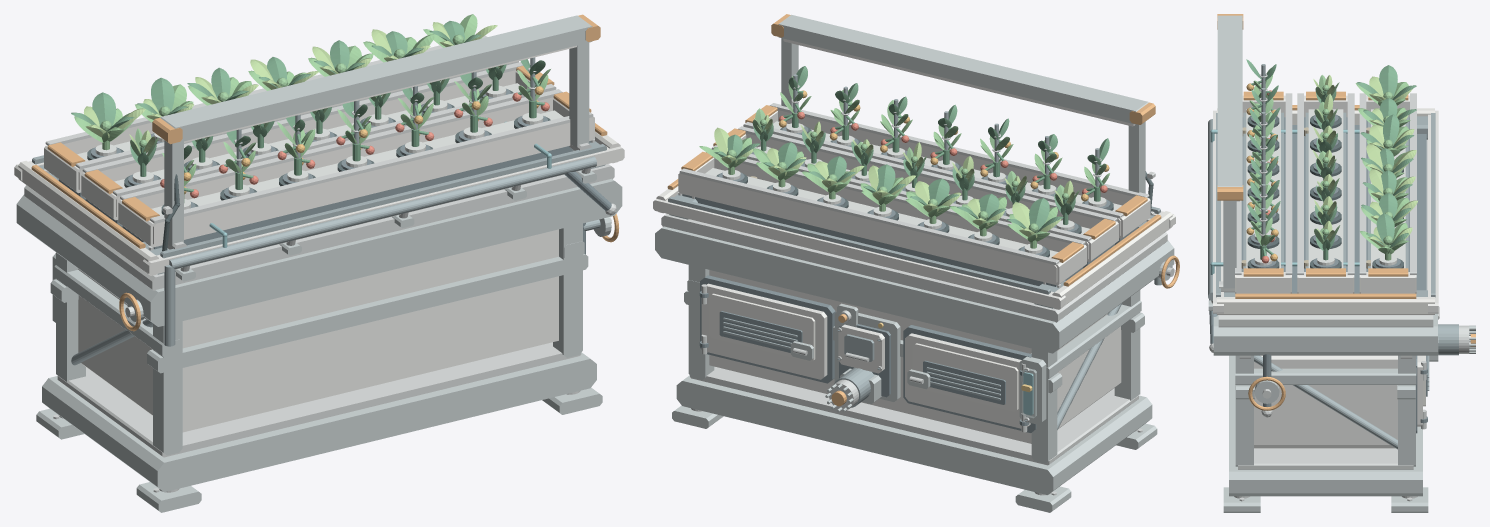
Rendered from greenhouse_planter.glb.
3 renders of one model, left to right at view 1: azimuth 30°, elevation 25°; view 2: azimuth 150°, elevation 25°; view 3: azimuth 270°, elevation 25°, orthographic. The views are drawn at different scales.
Visible parts, largest first — view 1: Static__gunmetal, Static__bone, Static__steel, Static__cream, Static__darksteel, Static__inner, Static__graphite, Harvest_Crops_Front__leaf_dark, Static__ochre, Harvest_Crops_Front__leaf_medium, Harvest_Crops_Back__leaf_dark, Harvest_Crops_Front__leaf_light (+6 smaller); view 2: Static__gunmetal, Static__steel, Static__cream, Static__bone, Static__graphite, Static__darksteel, Static__inner, Harvest_Crops_Front__leaf_dark, Static__ochre, Harvest_Crops_Back__leaf_dark, Harvest_Crops_Front__leaf_light, Harvest_Crops_Front__leaf_medium (+10 smaller); view 3: Static__gunmetal, Static__bone, Static__steel, Static__darksteel, Static__graphite, Static__inner, Static__cream, Harvest_Crops_Front__leaf_dark, Static__ochre, Harvest_Crops_Front__leaf_light, Static__rubber, Harvest_Crops_Front__leaf_medium (+10 smaller).
Part boxes in pixels (left/top/right/bottom): Static__gunmetal: left=16, top=15, right=622, bottom=512; Static__bone: left=14, top=71, right=624, bottom=432; Static__steel: left=24, top=35, right=616, bottom=492; Static__cream: left=18, top=45, right=620, bottom=275; Static__darksteel: left=32, top=57, right=606, bottom=365; Static__inner: left=77, top=83, right=563, bottom=215; Static__graphite: left=49, top=88, right=611, bottom=254; Harvest_Crops_Front__leaf_dark: left=71, top=21, right=481, bottom=132; Static__ochre: left=31, top=14, right=607, bottom=248; Harvest_Crops_Front__leaf_medium: left=74, top=14, right=482, bottom=142; Harvest_Crops_Back__leaf_dark: left=184, top=59, right=545, bottom=202; Harvest_Crops_Front__leaf_light: left=83, top=22, right=497, bottom=137; Static__gunmetal: left=655, top=14, right=1174, bottom=512; Static__steel: left=661, top=85, right=1167, bottom=495; Static__cream: left=656, top=38, right=1172, bottom=411; Static__bone: left=653, top=111, right=1175, bottom=443; Static__graphite: left=682, top=126, right=1143, bottom=432; Static__darksteel: left=668, top=74, right=1162, bottom=429; Static__inner: left=705, top=121, right=1121, bottom=257; Harvest_Crops_Front__leaf_dark: left=714, top=134, right=1063, bottom=232; Static__ochre: left=667, top=14, right=1161, bottom=406; Harvest_Crops_Back__leaf_dark: left=783, top=66, right=1109, bottom=201; Harvest_Crops_Front__leaf_light: left=714, top=127, right=1061, bottom=237; Harvest_Crops_Front__leaf_medium: left=699, top=137, right=1057, bottom=242; Static__gunmetal: left=1208, top=15, right=1475, bottom=512; Static__bone: left=1213, top=95, right=1438, bottom=448; Static__steel: left=1209, top=74, right=1469, bottom=501; Static__darksteel: left=1208, top=64, right=1458, bottom=449; Static__graphite: left=1209, top=114, right=1427, bottom=433; Static__inner: left=1246, top=109, right=1405, bottom=268; Static__cream: left=1217, top=108, right=1434, bottom=406; Harvest_Crops_Front__leaf_dark: left=1357, top=65, right=1416, bottom=247; Static__ochre: left=1217, top=14, right=1475, bottom=346; Harvest_Crops_Front__leaf_light: left=1366, top=76, right=1417, bottom=247; Static__rubber: left=1247, top=115, right=1403, bottom=268; Harvest_Crops_Front__leaf_medium: left=1355, top=82, right=1410, bottom=254.
Bounding box in the file's own units: 2.22 × 1.64 × 1.23.
